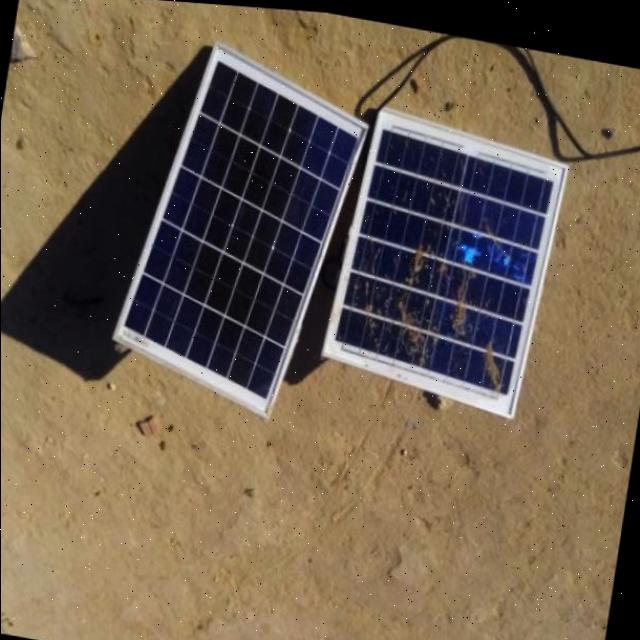Normal Solar Panel: (106, 27, 376, 421)
